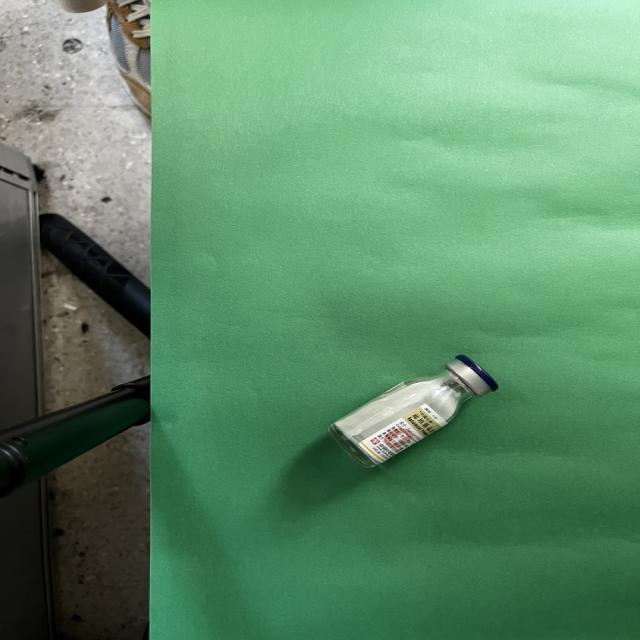Vials: (329, 355, 498, 469)
